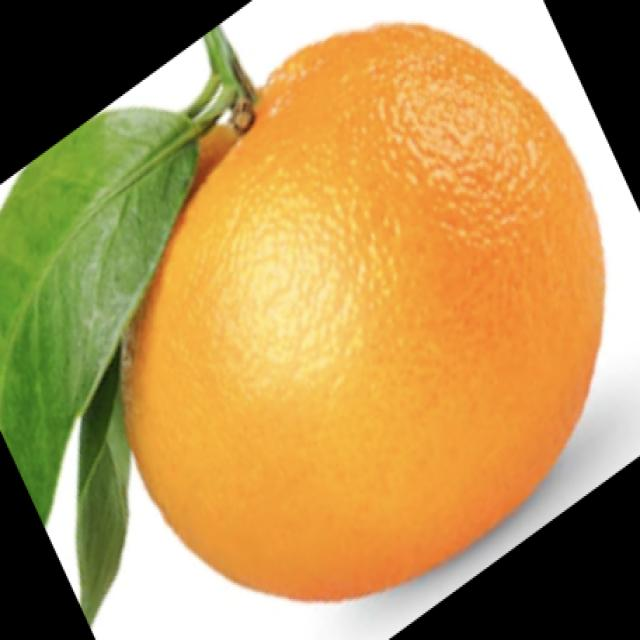matang: (122, 12, 599, 596)
